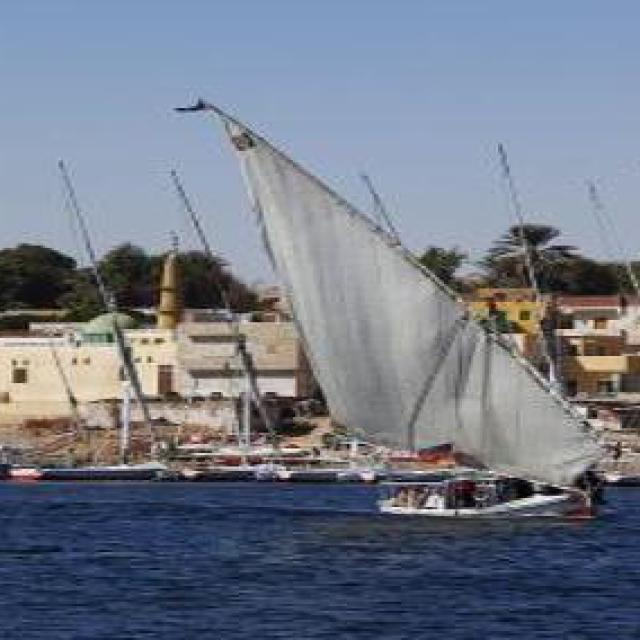sailboat: (195, 94, 606, 519)
